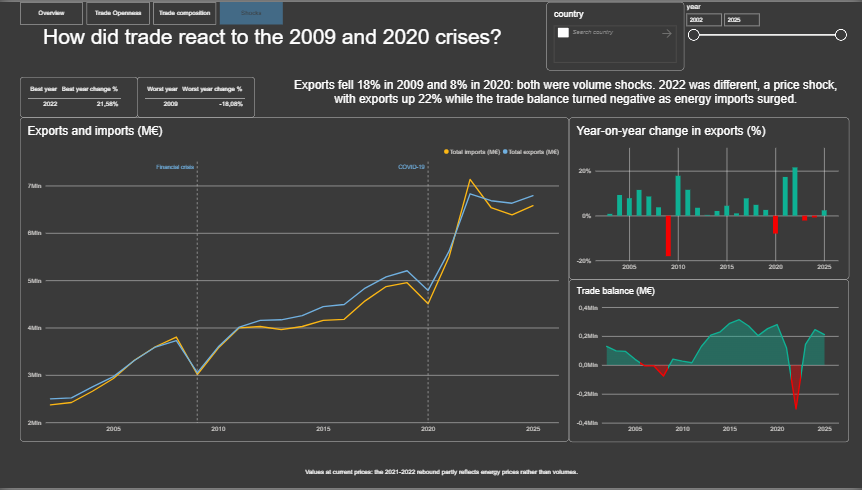

The page's visual inventory and layout, read from the dashboard file:
{"tool":"powerbi","page":{"name":"Shocks","canvas":[1920,1080],"ordinal":3},"visuals":[{"type":"textbox","title":"How did trade react to the 2009 and 2020 crises?","box":[0,50,1215,116.7],"z":0},{"type":"textSlicer","fields":{"Values":["dim_country.country"]},"box":[1215,0,306,152],"z":1000},{"type":"slicer","fields":{"Values":["dim_year.year"]},"box":[1520,0,366.7,153.3],"z":2000},{"type":"tableEx","fields":{"Values":["_Measures.Best year","_Measures.Best year change %"]},"box":[45.6,165.6,262.2,90],"z":3000},{"type":"lineChart","title":"Exports and imports (M€)","fields":{"Category":["dim_year.year"],"Y":["_Measures.Total imports (M€)","_Measures.Total exports (M€)"]},"box":[46,256,1220,720],"z":4000},{"type":"clusteredColumnChart","title":"Year-on-year change in exports (%)","fields":{"Category":["dim_year.year"],"Y":["_Measures.Exports YoY %"]},"box":[1265,255,622.5,360],"z":5000},{"type":"textbox","box":[45,1035,1874,46],"z":6000},{"type":"textbox","box":[634,152,1252,106],"z":8000},{"type":"areaChart","title":"Trade balance (M€)","fields":{"Category":["dim_year.year"],"Y":["_Measures.Trade balance (M€)"]},"box":[1266,615,622,361],"z":9000},{"type":"tableEx","fields":{"Values":["_Measures.Worst year","_Measures.Worst year change %"]},"box":[307.8,166.7,262.2,90],"z":10000},{"type":"pageNavigator","box":[47.5,0,587.1,50],"z":10001}]}

Visuals, with their boxes in screenshot pixels (x1, y1, x2, y2), scaled from the page's 1920x1080 canvas onto the 862x490 screenshot:
"How did trade react to the 2009 and 2020 crises?" textbox: Rect(0, 23, 545, 76)
textSlicer - dim_country.country: Rect(545, 0, 683, 69)
slicer - dim_year.year: Rect(682, 0, 847, 70)
tableEx - _Measures.Best year x _Measures.Best year change %: Rect(20, 75, 138, 116)
"Exports and imports (M€)" lineChart: Rect(21, 116, 568, 443)
"Year-on-year change in exports (%)" clusteredColumnChart: Rect(568, 116, 847, 279)
textbox: Rect(20, 470, 861, 489)
textbox: Rect(285, 69, 847, 117)
"Trade balance (M€)" areaChart: Rect(568, 279, 848, 443)
tableEx - _Measures.Worst year x _Measures.Worst year change %: Rect(138, 76, 256, 116)
pageNavigator: Rect(21, 0, 285, 23)
